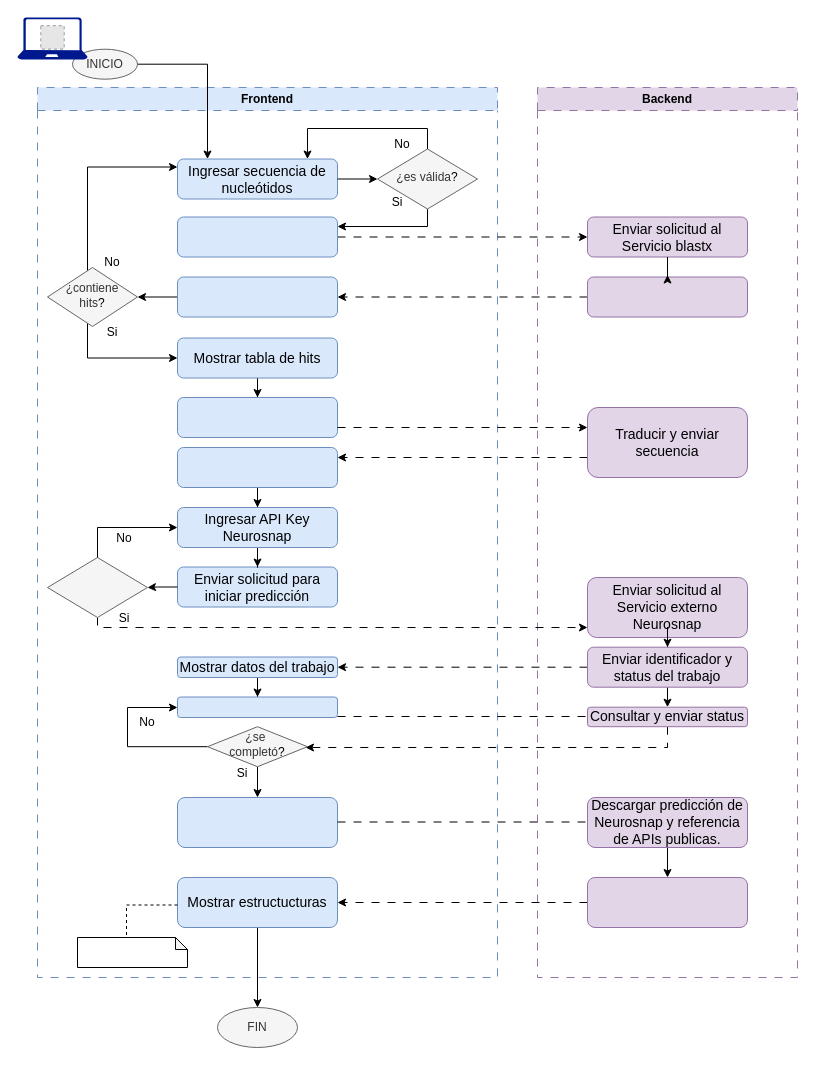
This 815x1065 diagram has some shape labels left out. Grey dashed boxes stand in for pictures. The centre of each missing label's shape, as x and y in pixels:
"Consultar status" belongs at (x=257, y=707).
"Descargar prediccion o referencia" belongs at (x=132, y=952).
"Descargar, procesar y enviar predicción y referencia" belongs at (x=667, y=902).
"Enviar respuesta al frontend" belongs at (x=667, y=296).
"Enviar solicitud GetBlastxHits" belongs at (x=257, y=236).
"Mostrar datos del del hit y de la traducción" belongs at (x=257, y=467).
"Recibir y analizar respuesta" belongs at (x=257, y=296).
"Seleccionar hit para comparar" belongs at (x=257, y=417).
"Seleccionar una prediccion para comparar" belongs at (x=257, y=822).
"¿existe API key ?" belongs at (x=97, y=587).
